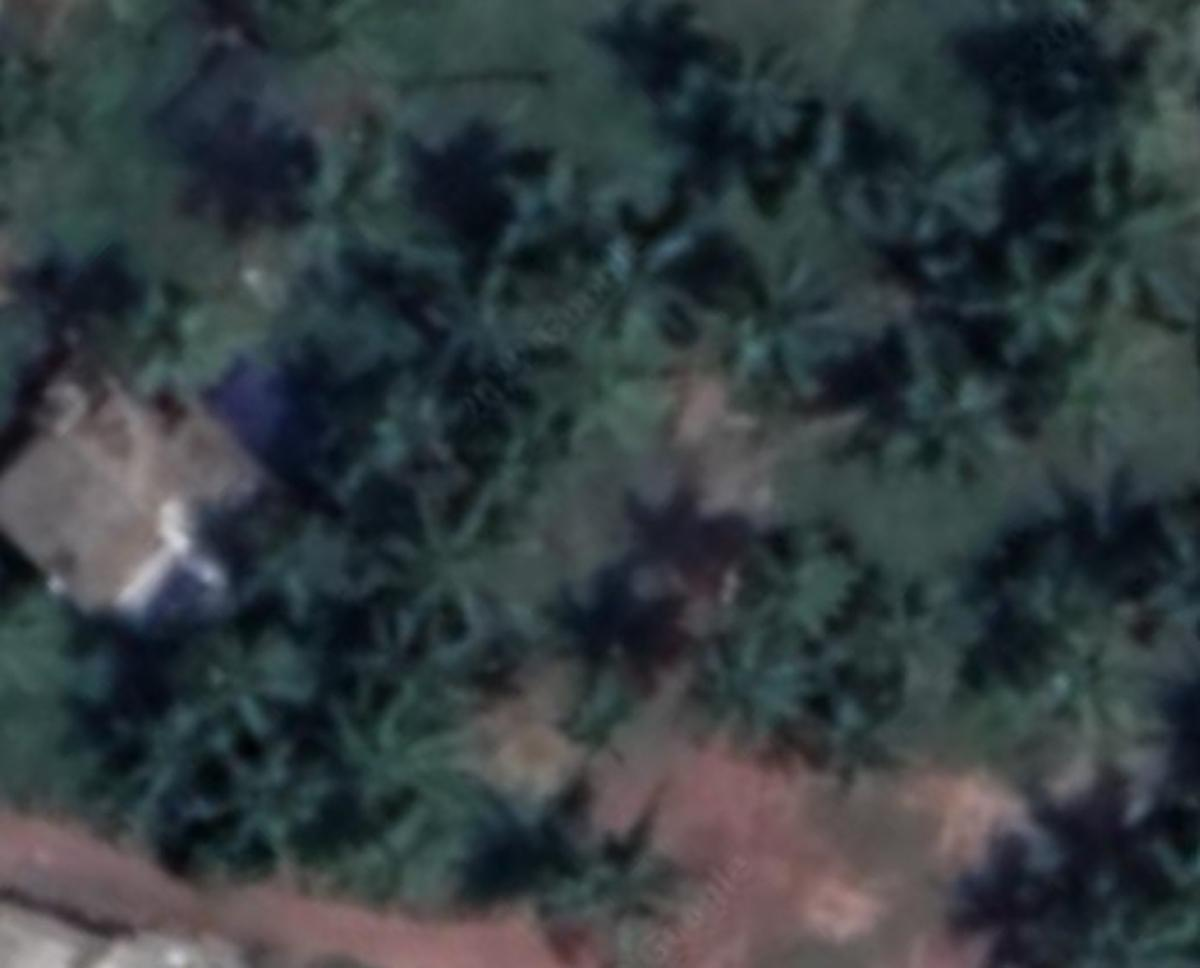coconut: (191, 695, 358, 871), (530, 792, 700, 954), (1031, 155, 1196, 311), (1046, 36, 1191, 204), (872, 325, 1026, 475), (385, 485, 538, 632), (478, 136, 623, 282), (848, 127, 1000, 266), (721, 266, 859, 418), (571, 217, 716, 361), (394, 239, 531, 380), (170, 623, 311, 757), (680, 632, 810, 764), (330, 675, 454, 794), (736, 527, 857, 644), (700, 29, 809, 155)
